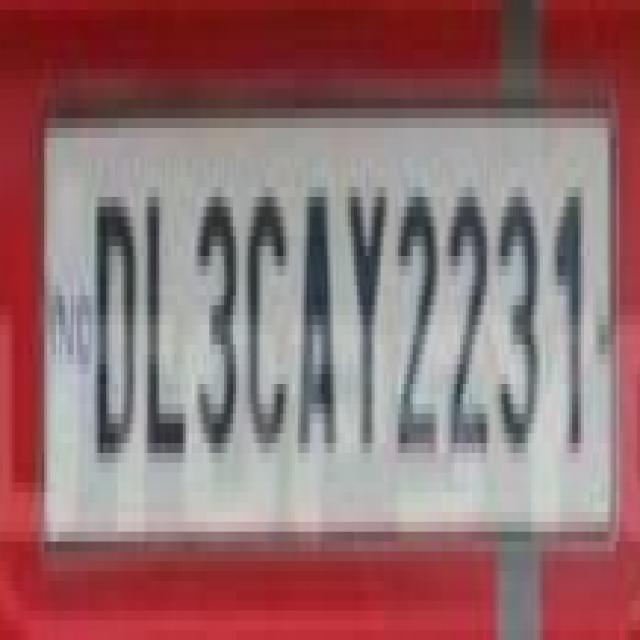1: (552, 173, 588, 478)
2: (445, 182, 492, 465), (396, 184, 439, 466)
3: (495, 180, 542, 454), (194, 186, 236, 468)
A: (296, 182, 338, 462)
C: (246, 180, 288, 457)
D: (92, 184, 138, 463)
L: (142, 174, 188, 466)
Y: (346, 178, 390, 464)
